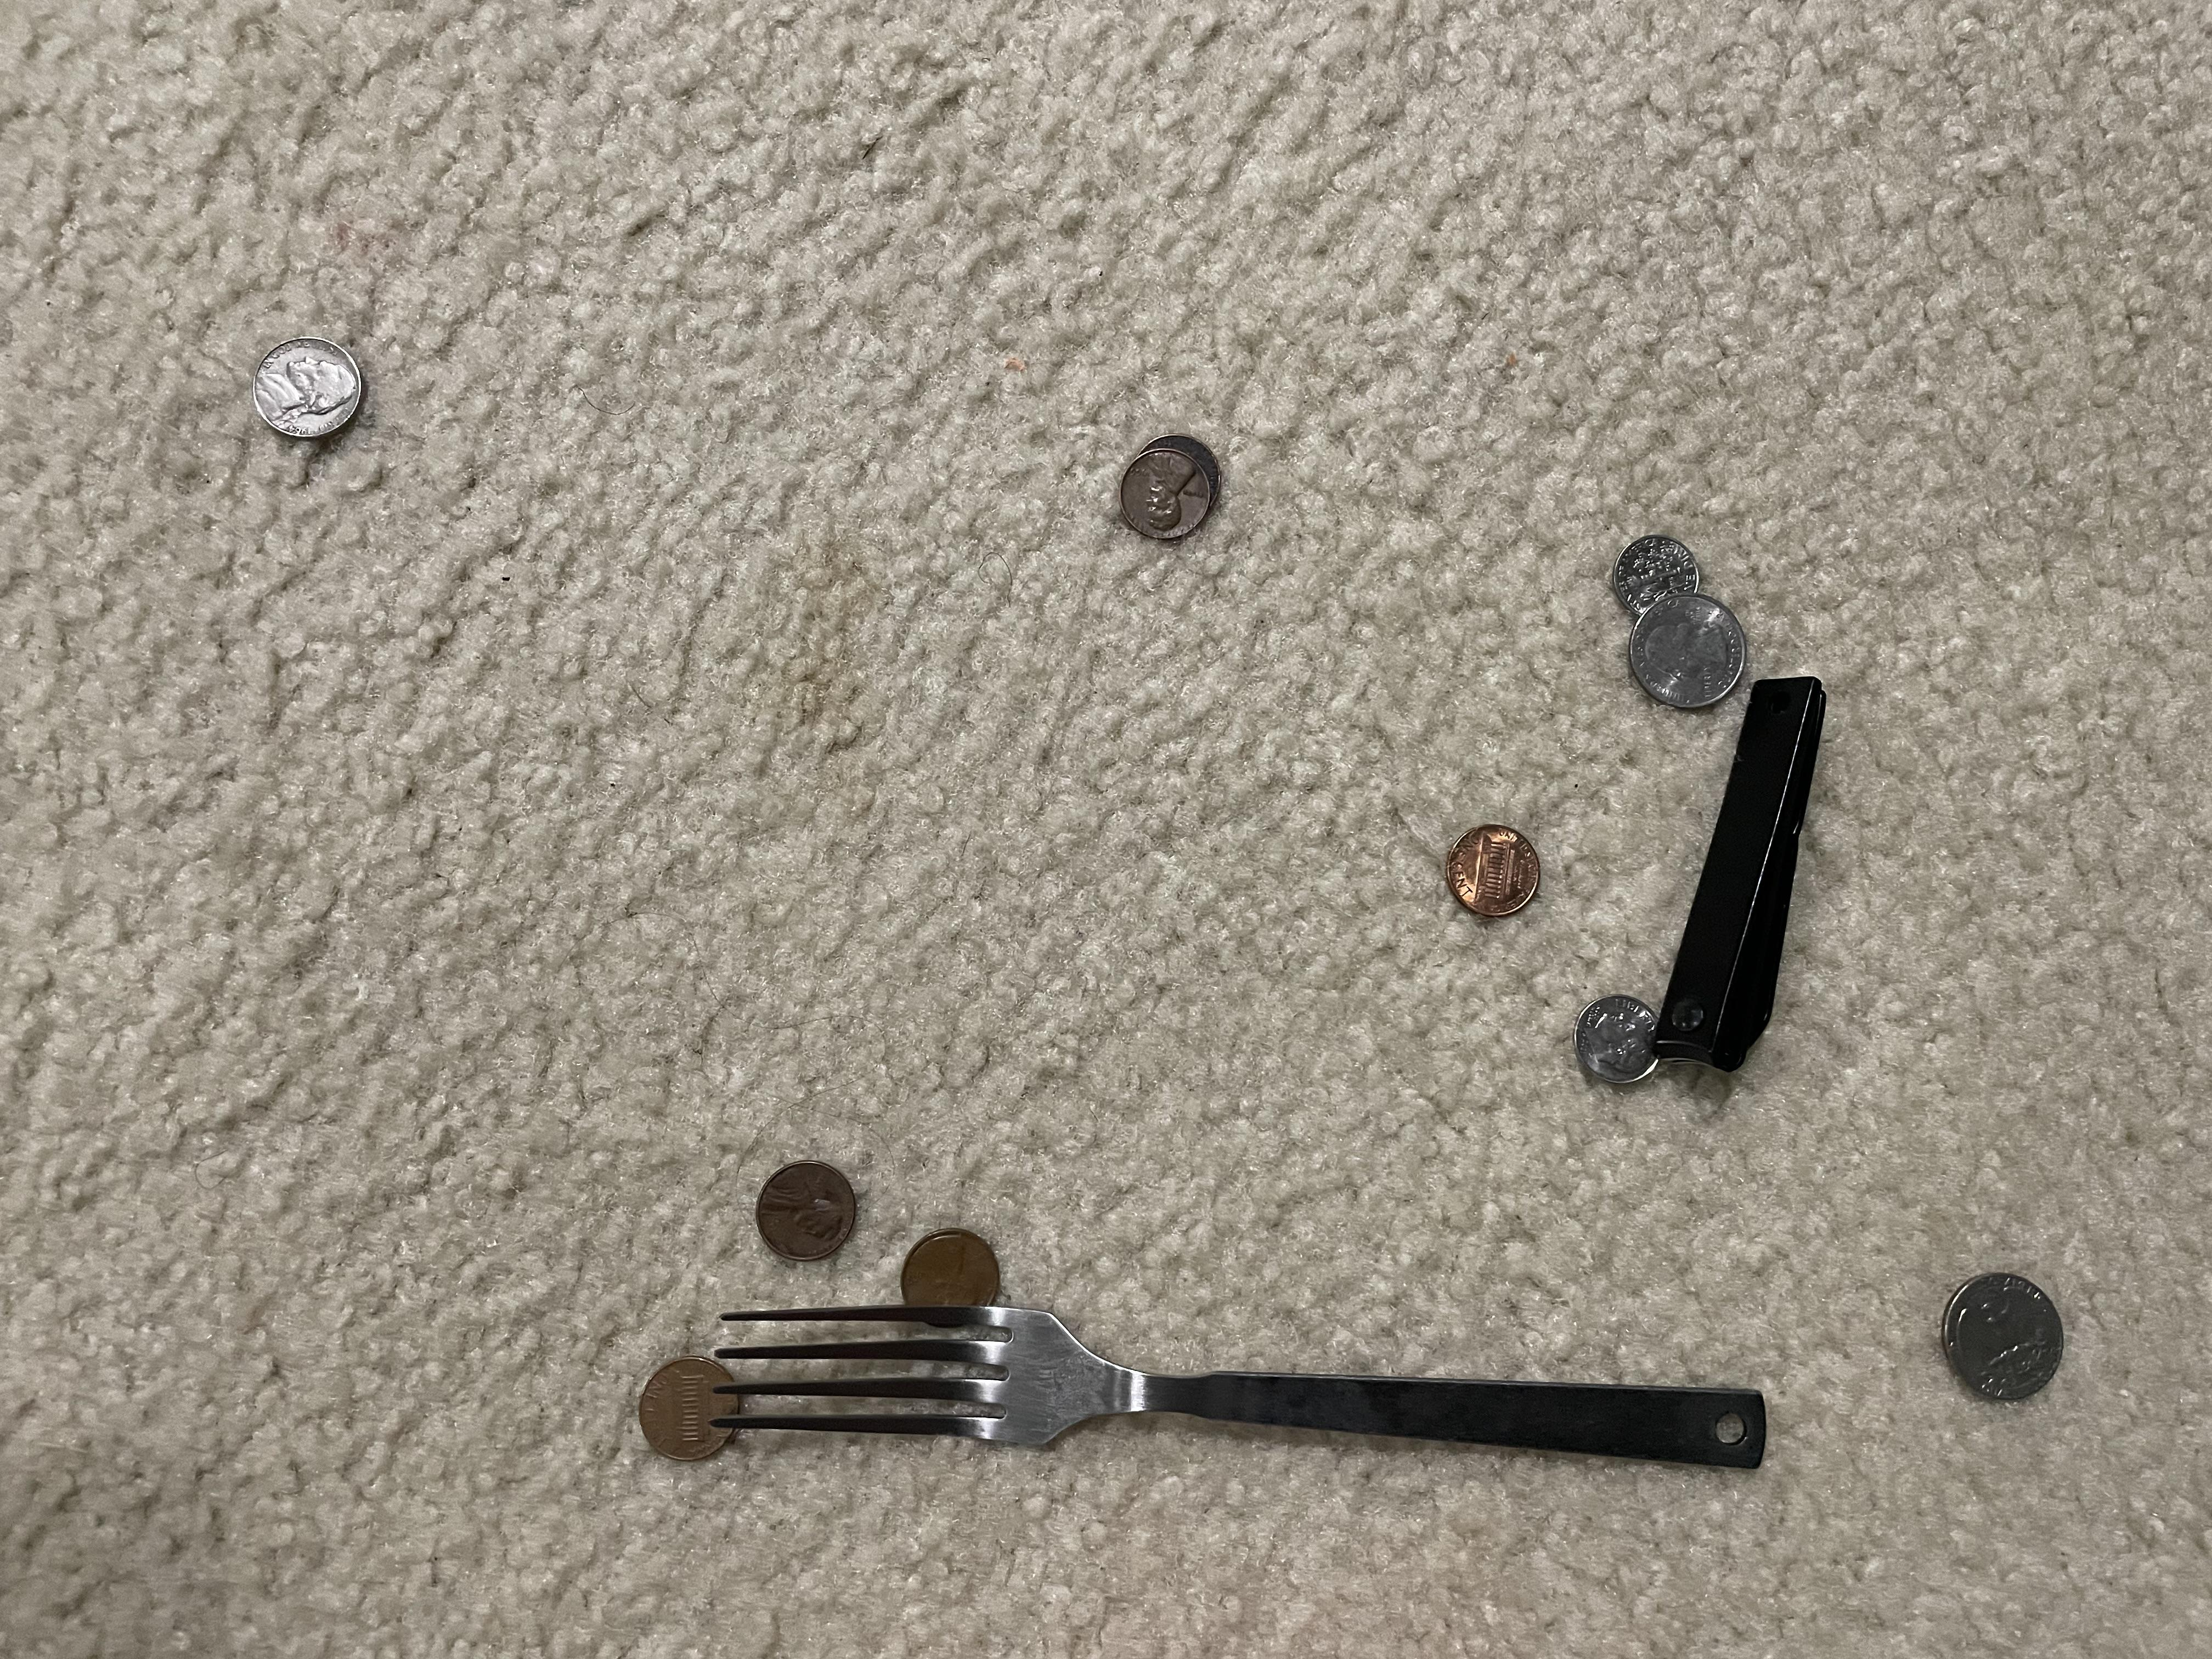Dime: (1575, 990, 1688, 1094), (1608, 533, 1707, 613)
Nickel: (211, 333, 383, 439)
Penny: (627, 1354, 756, 1462), (897, 1222, 1014, 1328), (749, 1161, 867, 1262), (1099, 450, 1216, 544), (1447, 824, 1554, 922)
Quarter: (1928, 1255, 2078, 1406), (1620, 606, 1756, 708)
